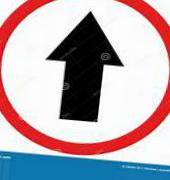forward: (1, 1, 170, 156)
